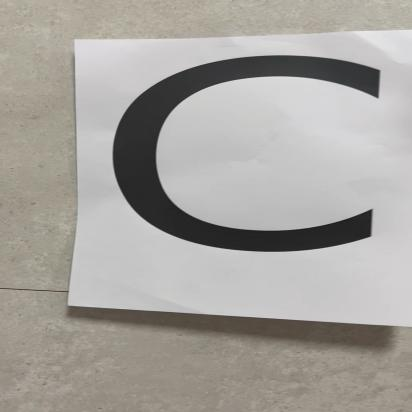seat: (83, 33, 412, 312)
